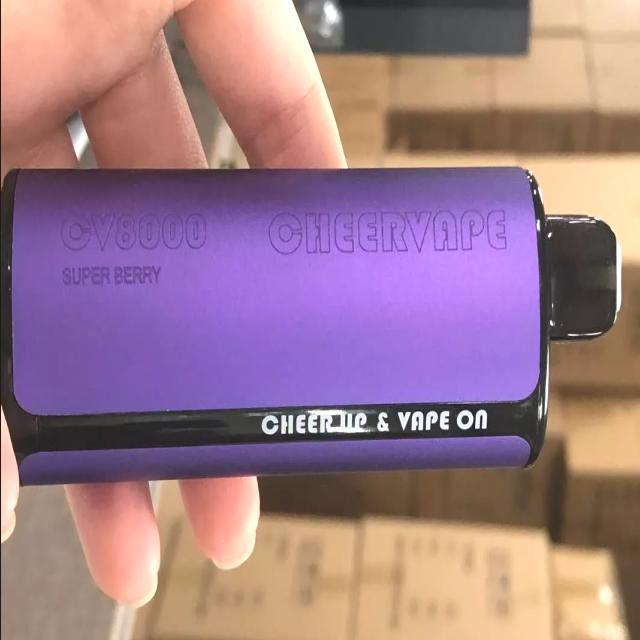Hazard: (0, 165, 622, 489)
